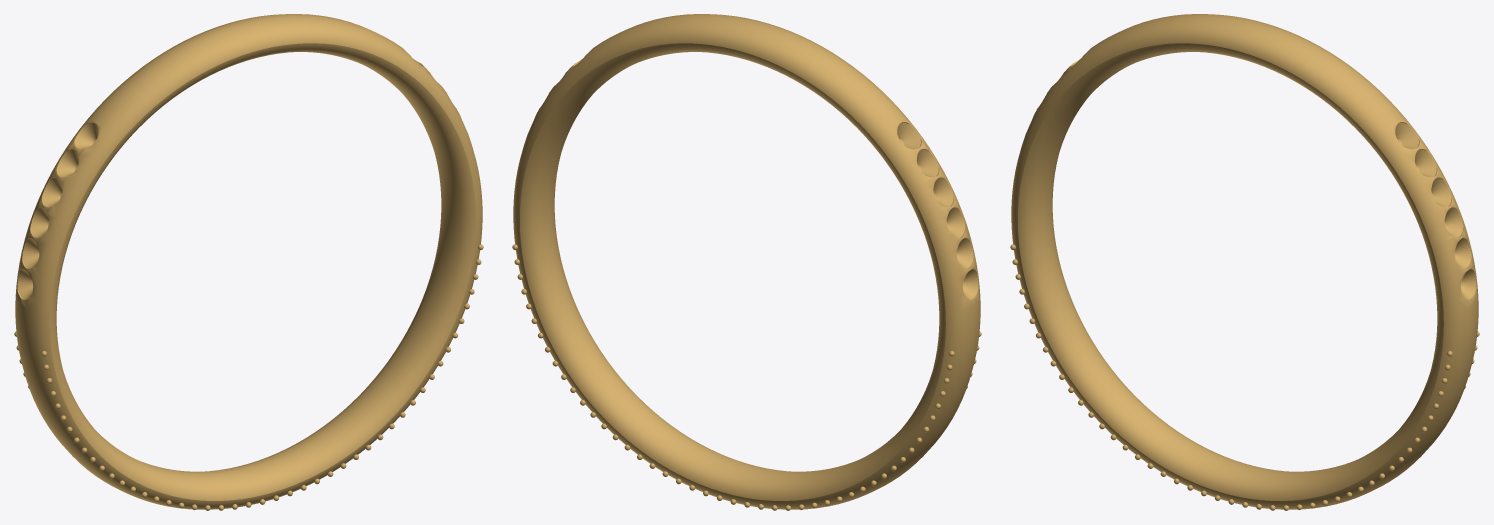
Rendered from vintage-micro-pave-head.glb.
The picture shows the model from 3 angles, left to right: view 1: azimuth 30°, elevation 25°; view 2: azimuth 150°, elevation 25°; view 3: azimuth 330°, elevation 25°; orthographic projection.
Visible parts, largest first — view 1: Band; view 2: Band; view 3: Band.
Part boxes in pixels (x1,y1,x2,y2): Band: (15,14,482,509); Band: (513,14,980,509); Band: (1011,14,1478,509).
Size of the model in its own units: 19.6 by 19.6 by 2.22.
